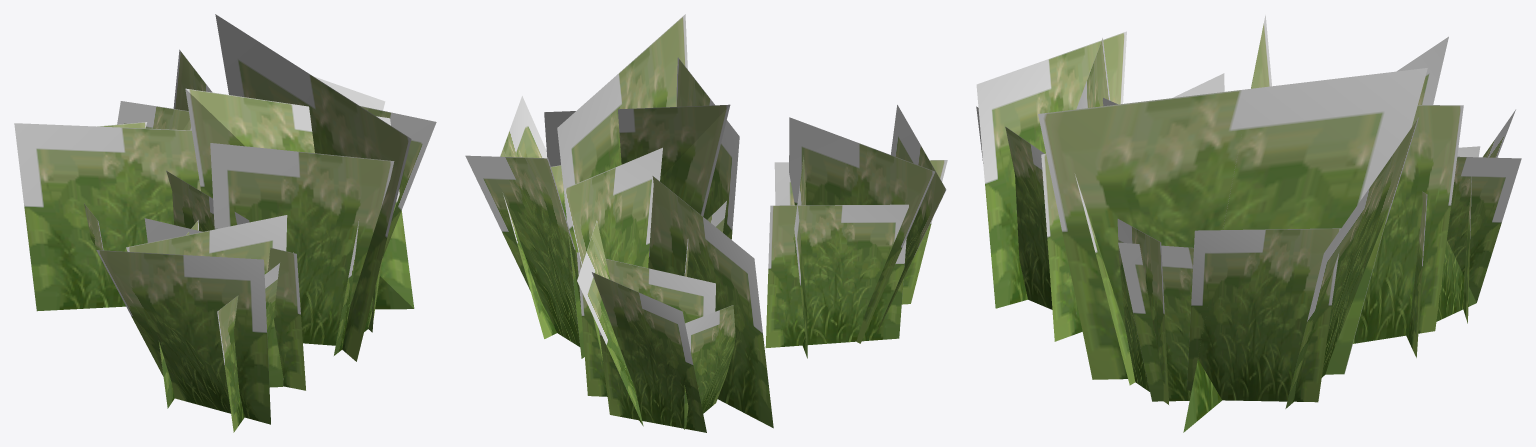
File: Yland1_Zb_12_Yland1.FBX
3 renders of one model, left to right at view 1: azimuth 30°, elevation 25°; view 2: azimuth 150°, elevation 25°; view 3: azimuth 270°, elevation 25°, orthographic. The views are drawn at different scales.
Visible parts, largest first — view 1: Yland1_Zb_12_Yland1; view 2: Yland1_Zb_12_Yland1; view 3: Yland1_Zb_12_Yland1.
Part boxes in pixels (bbox=[...]): Yland1_Zb_12_Yland1: bbox=[14, 14, 436, 432]; Yland1_Zb_12_Yland1: bbox=[465, 14, 947, 432]; Yland1_Zb_12_Yland1: bbox=[976, 15, 1521, 432].
Bounding box in the file's own units: 3.7 × 2.43 × 3.84.
